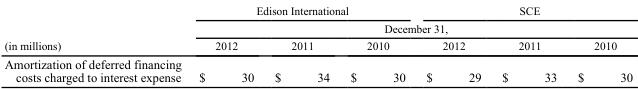table: (3, 3, 632, 83)
table column: (3, 3, 189, 83), (263, 3, 339, 83), (339, 3, 415, 83), (490, 3, 566, 83), (415, 3, 490, 83), (189, 3, 263, 83), (566, 3, 632, 83)
table column header: (3, 3, 632, 54)
table row: (3, 54, 632, 83), (3, 18, 632, 36), (3, 36, 632, 54), (3, 3, 632, 18)
table spanning cell: (3, 3, 189, 54), (189, 18, 632, 36), (189, 3, 415, 18), (415, 3, 632, 18)
